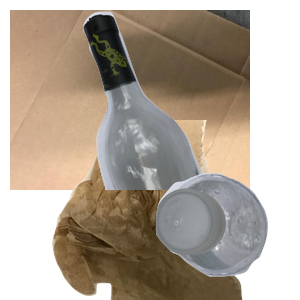cardboard: (10, 10, 250, 190)
glass: (81, 10, 300, 190)
plastic: (153, 170, 300, 300)
trash: (50, 120, 285, 300)
